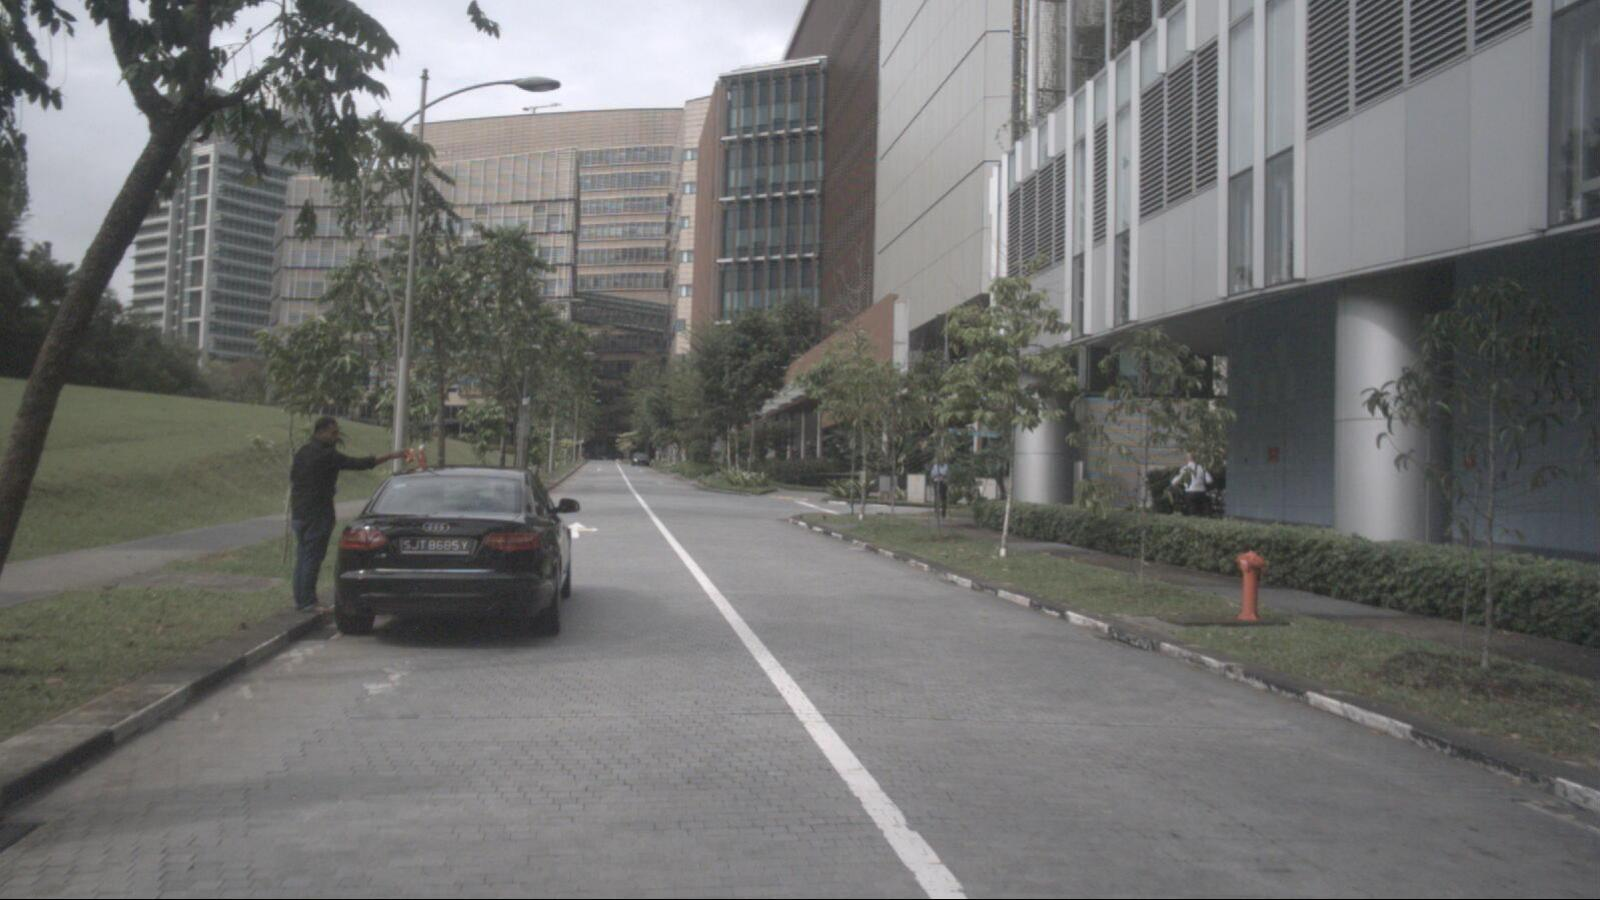human.pedestrian.adult-pedestrian.moving: (1174, 451, 1212, 535), (929, 456, 951, 519)
human.pedestrian.adult-pedestrian.standing: (280, 417, 412, 613)
